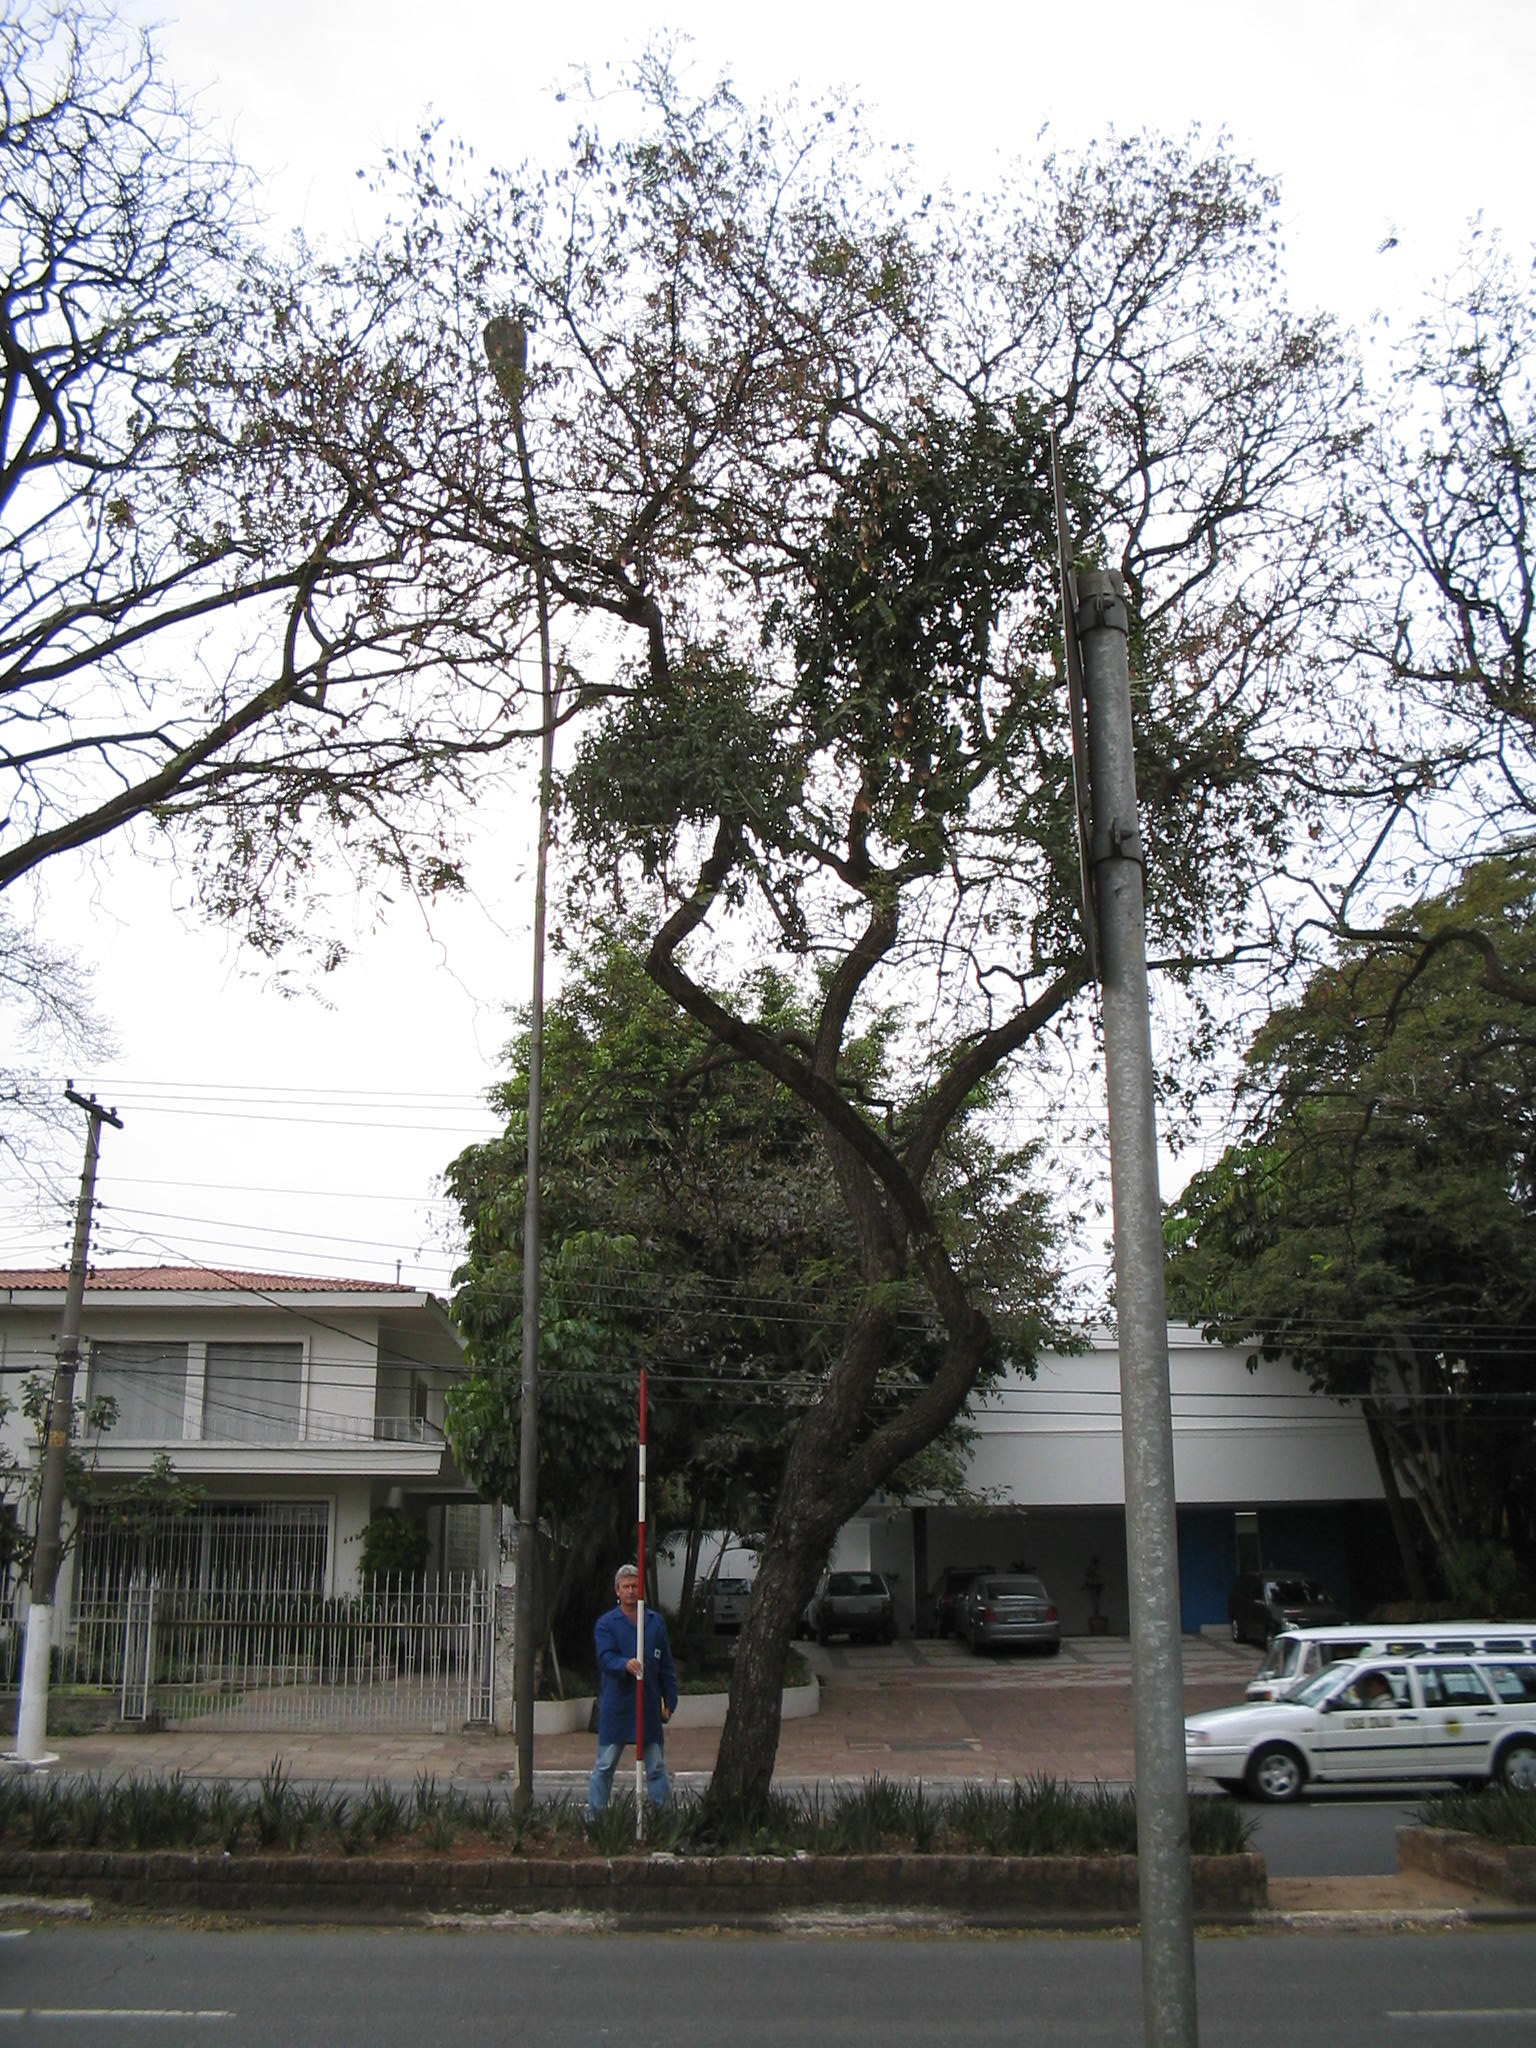stem: (666, 1487, 907, 1837)
stick: (600, 1366, 679, 1843)
tree: (260, 24, 1449, 1845)
